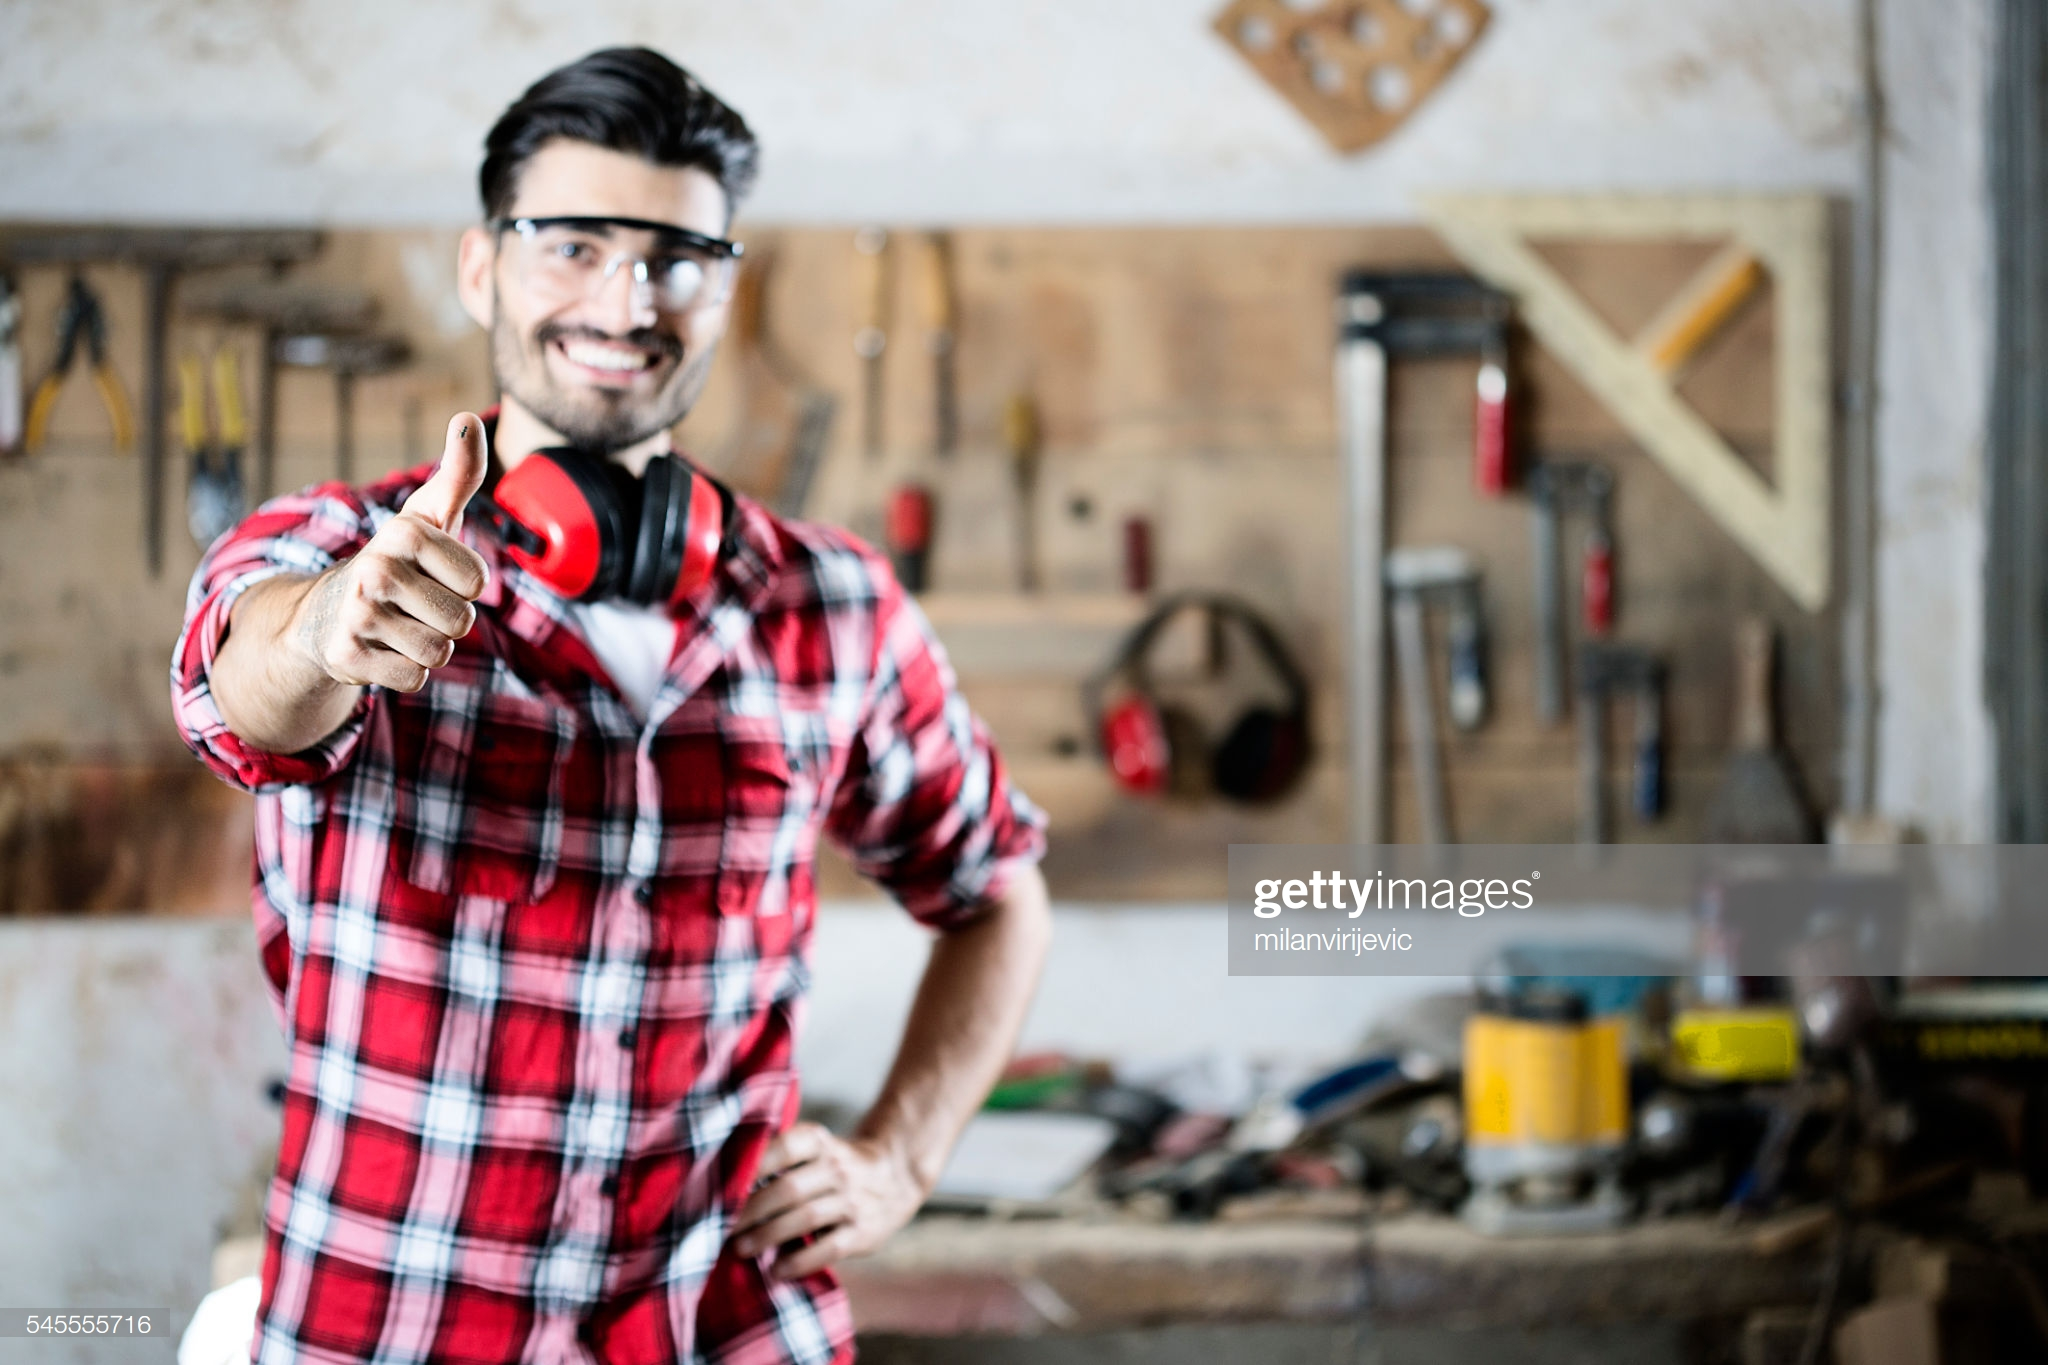thumbsup: (332, 411, 487, 695)
